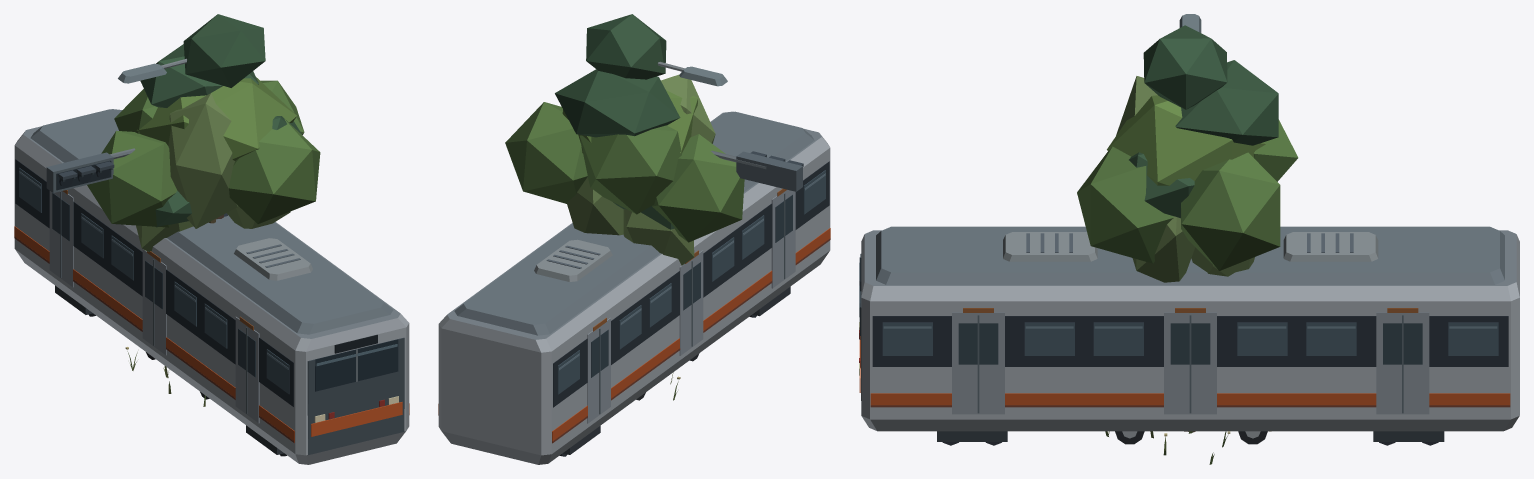
The model's file is street-kit.glb.
The picture shows the model from 3 angles, left to right: view 1: azimuth 30°, elevation 25°; view 2: azimuth 150°, elevation 25°; view 3: azimuth 270°, elevation 25°; orthographic projection. The views are drawn at different scales.
Visible parts, largest first — view 1: train-cab, tree-keyaki, tree-pine, tree-riverside, signal-arm, street-light; view 2: train-cab, tree-keyaki, tree-pine, tree-riverside, signal-arm, street-light; view 3: train-cab, tree-keyaki, tree-pine, tree-riverside.
Part boxes in pixels (x1,y1,x2,y2): train-cab: (14, 109, 409, 464); tree-keyaki: (87, 77, 320, 227); tree-pine: (140, 14, 302, 227); tree-riverside: (136, 93, 290, 251); signal-arm: (46, 148, 135, 192); street-light: (118, 58, 186, 83); train-cab: (438, 111, 830, 464); tree-keyaki: (505, 90, 744, 242); tree-pine: (555, 14, 680, 229); tree-riverside: (566, 74, 715, 265); signal-arm: (711, 150, 803, 191); street-light: (657, 61, 727, 86); train-cab: (859, 226, 1519, 445); tree-keyaki: (1077, 95, 1298, 432); tree-pine: (1129, 25, 1278, 218); tree-riverside: (1116, 76, 1254, 282).
Bounding box in the file's own units: 6.48 × 8.02 × 11.96.
